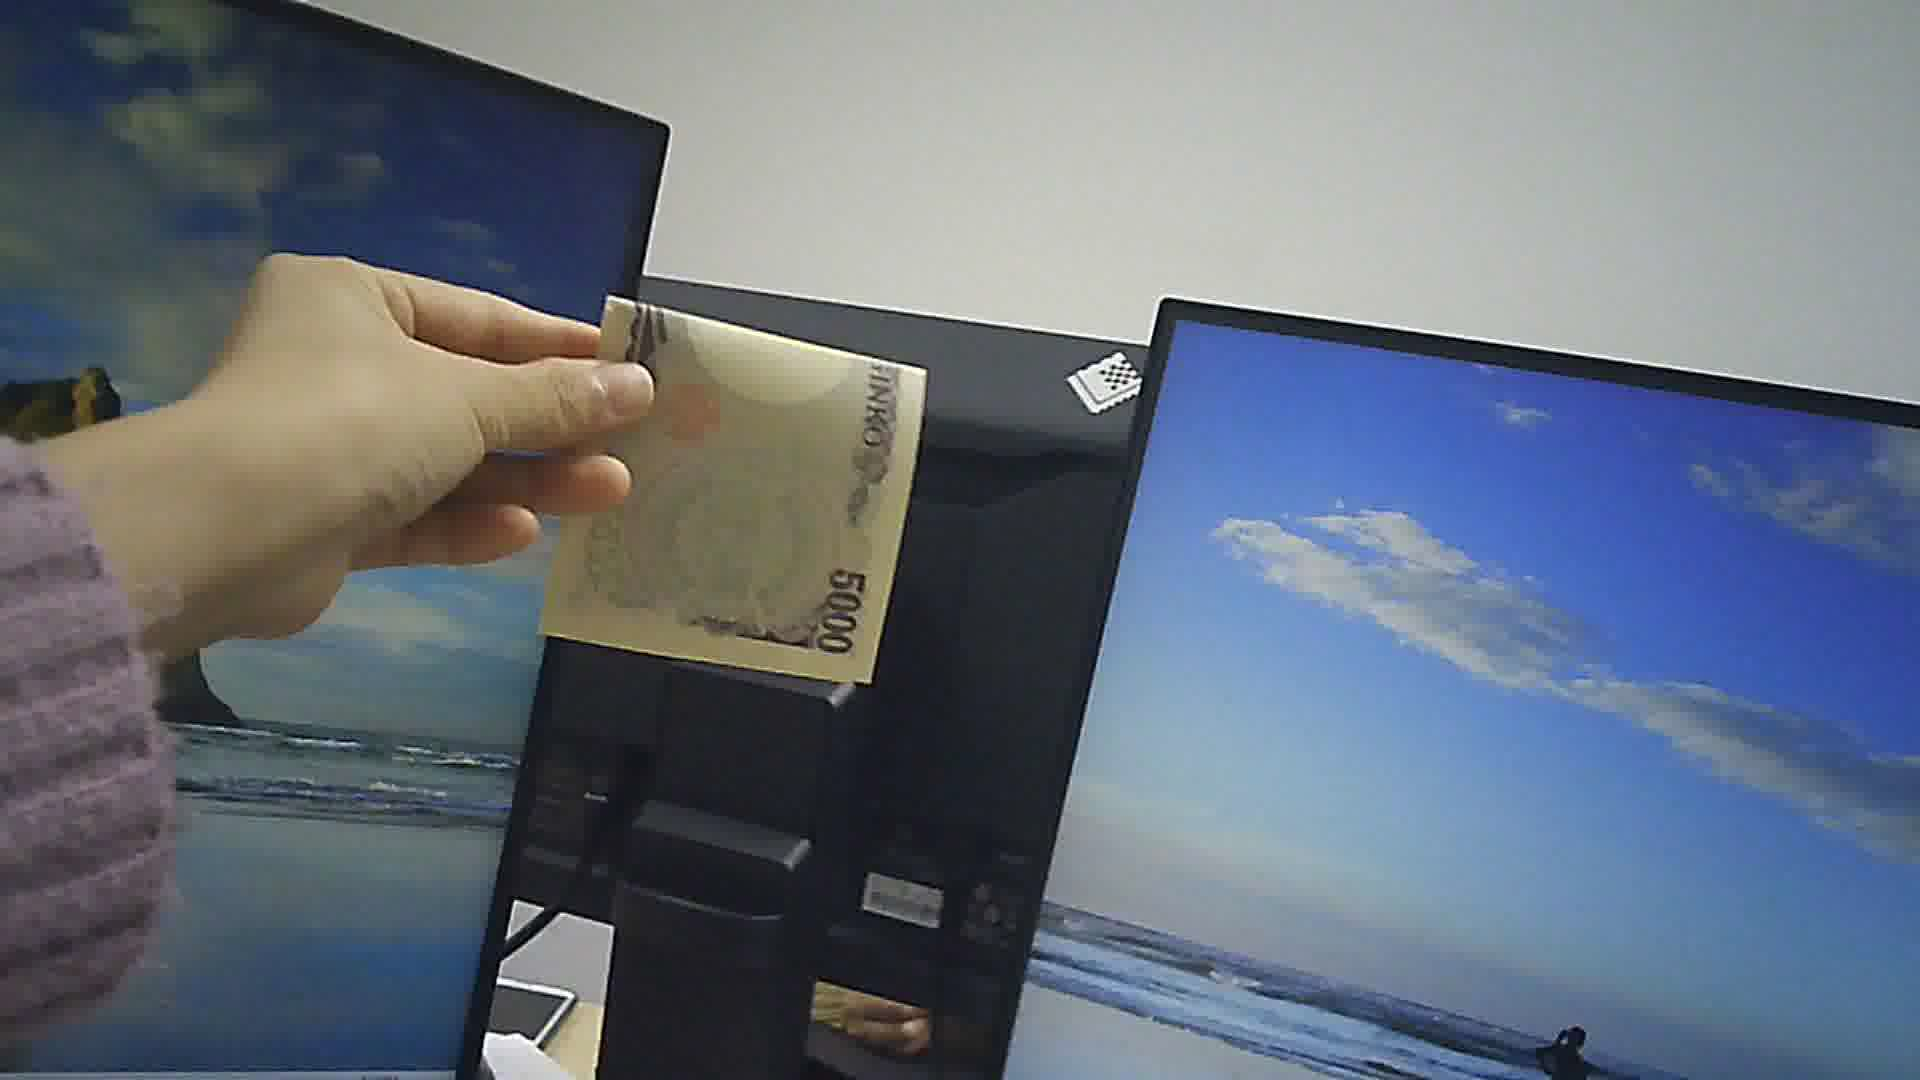5,000 Yen: (538, 270, 973, 703)
